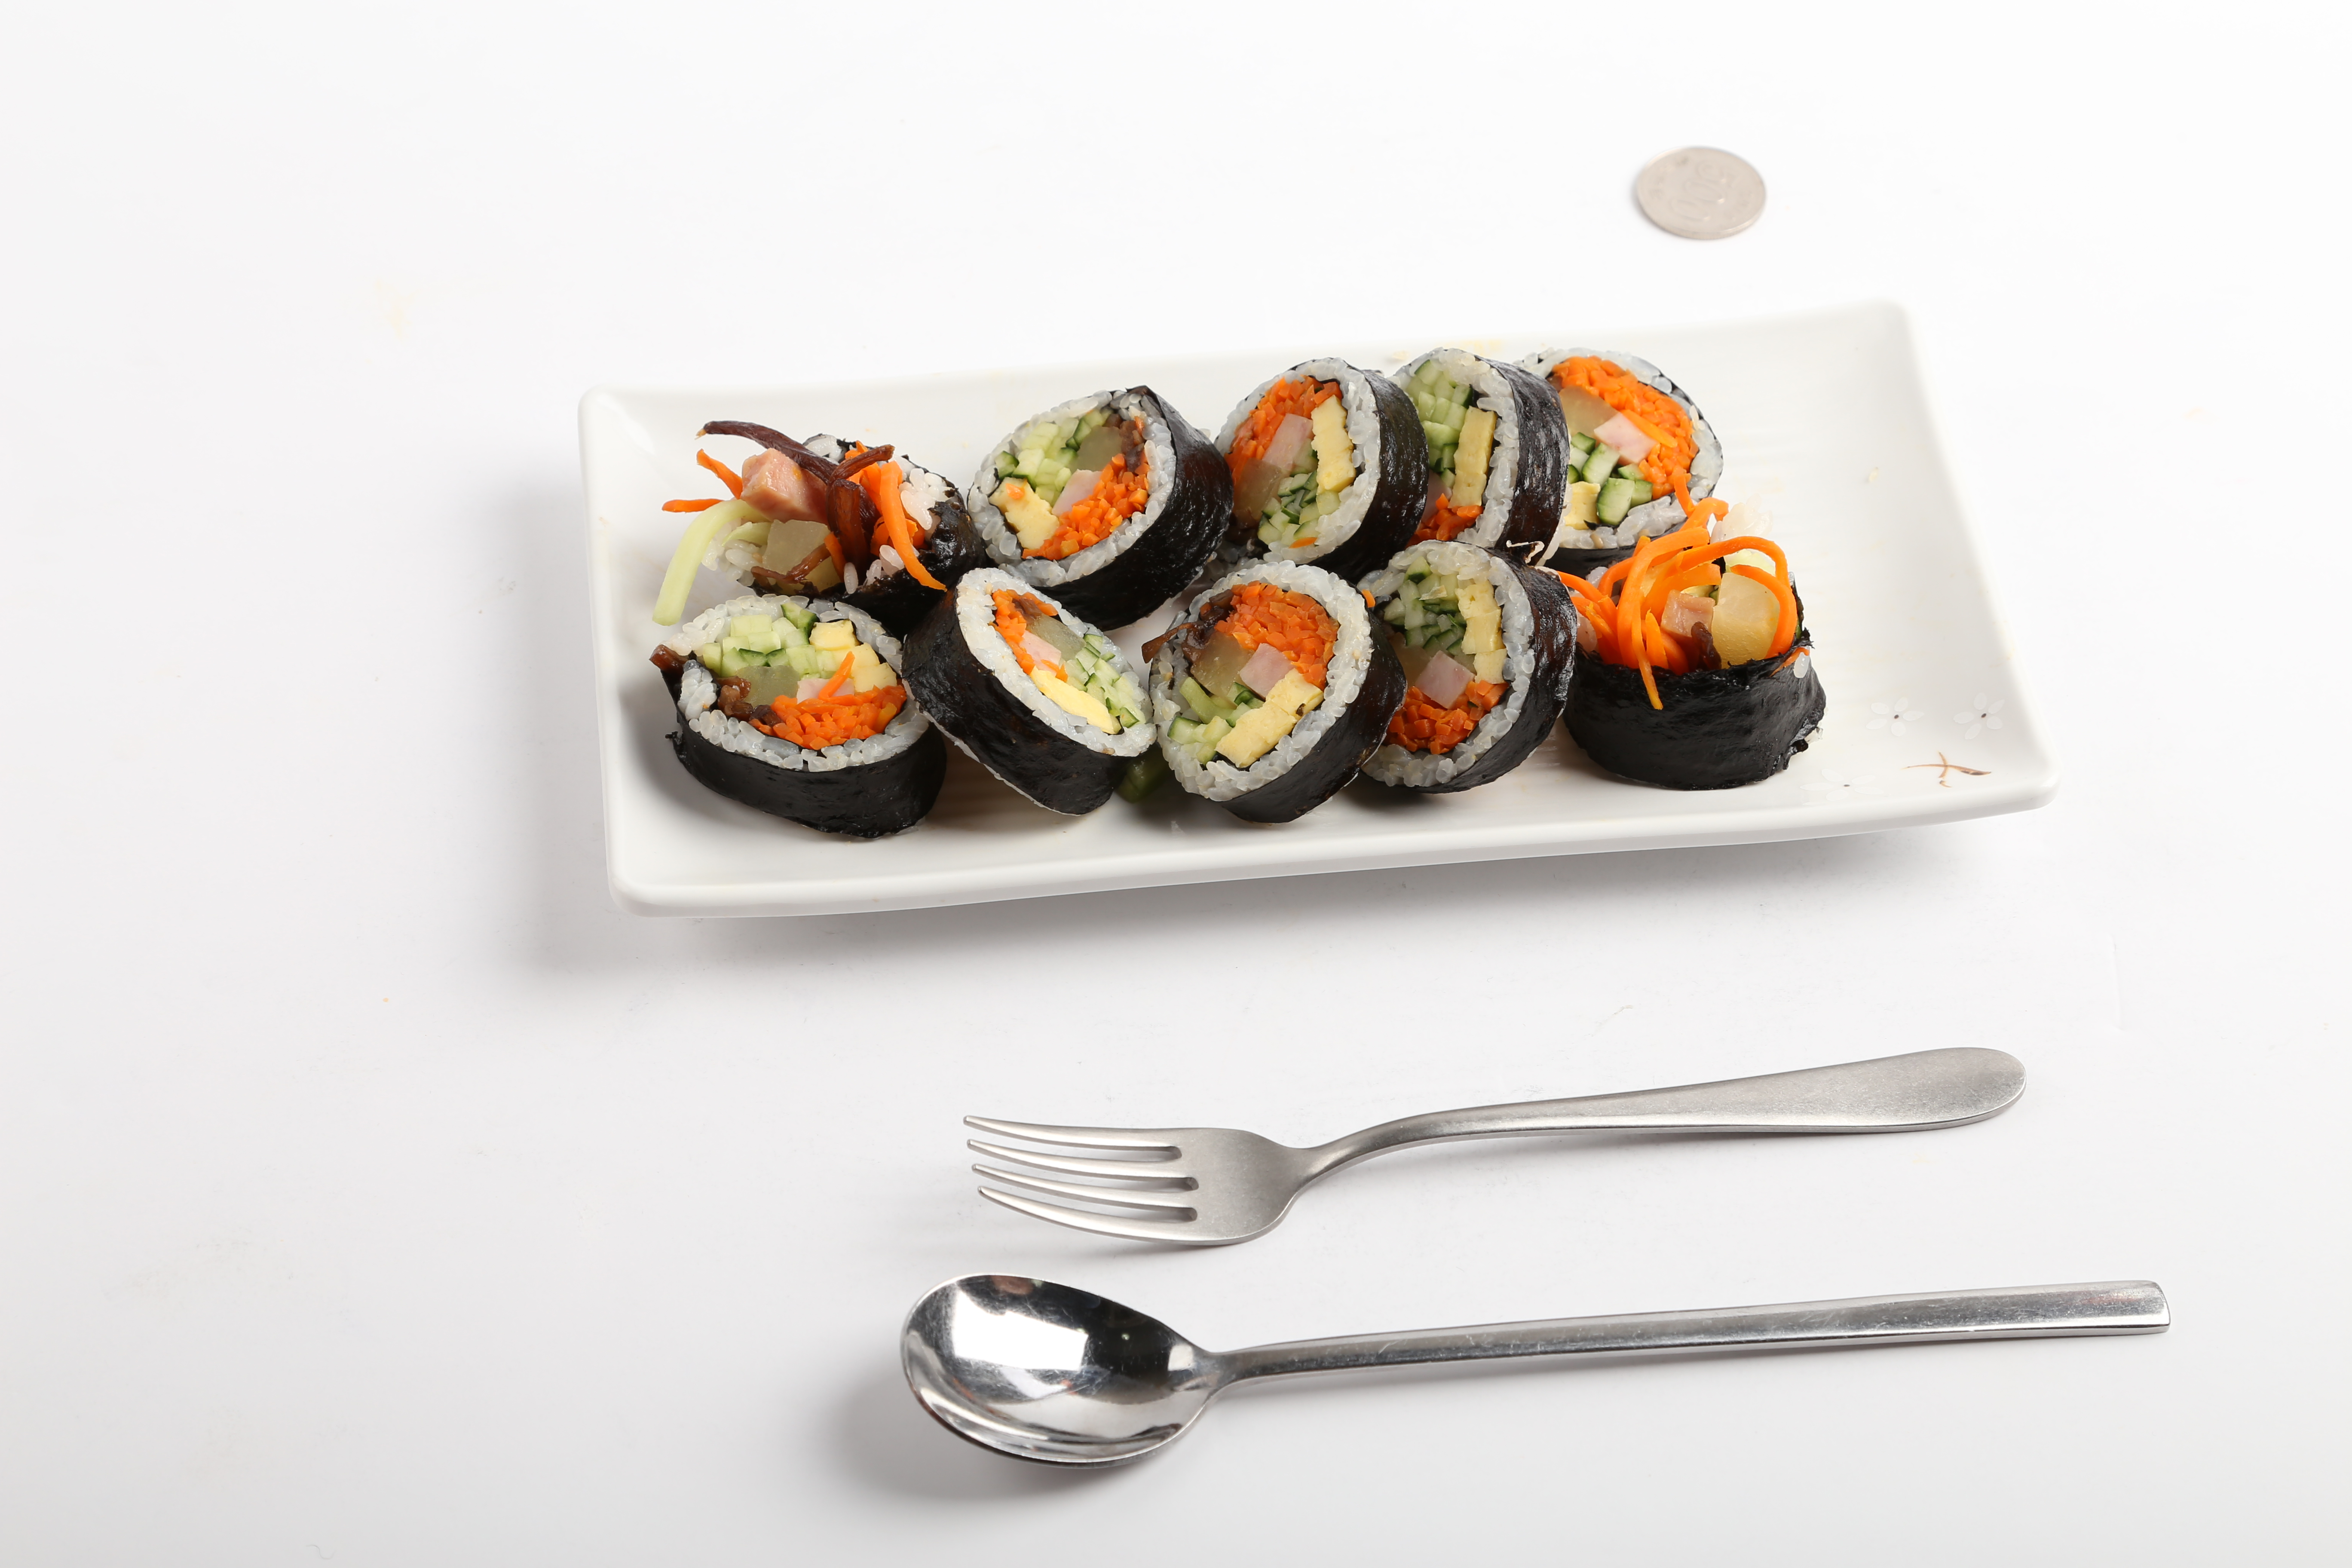dish: (579, 297, 2061, 924)
ref_coin: (1620, 135, 1773, 245)
ref_fork: (961, 1111, 1409, 1249)
ref_spoon: (892, 1265, 1295, 1468)
김밥: (660, 346, 1825, 840)
